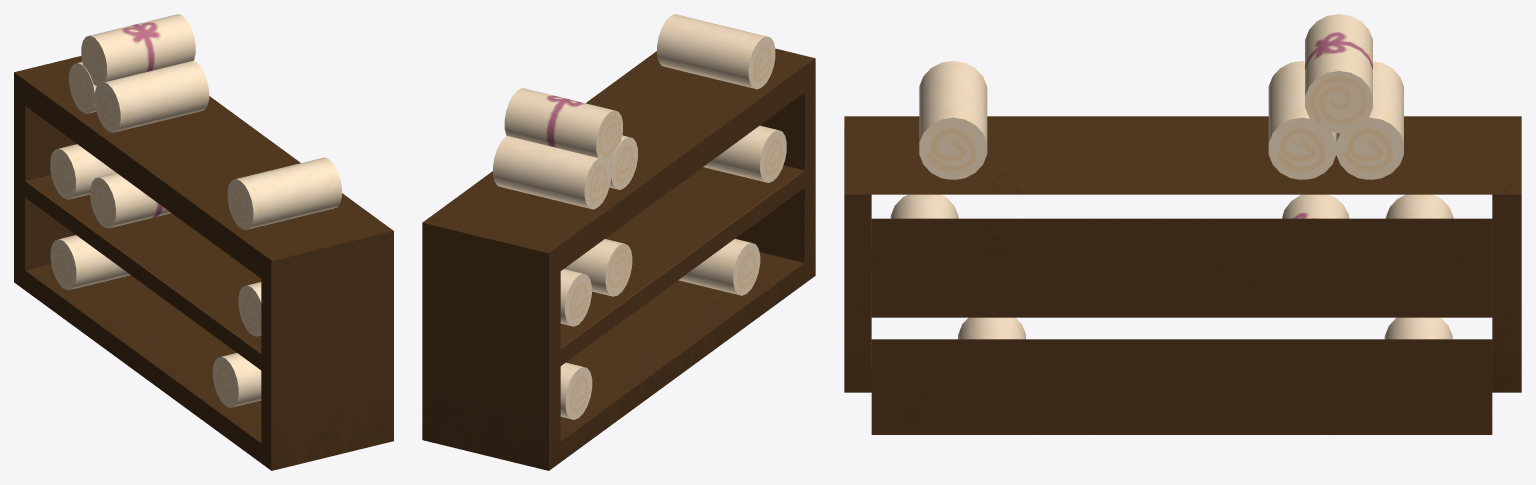
The model's file is Shelf1.fbx.
3 views of the same model, side by side, from view 1: azimuth 30°, elevation 25°; view 2: azimuth 150°, elevation 25°; view 3: azimuth 270°, elevation 25° (orthographic). The views are drawn at different scales.
Parts seen in each view (by area): view 1: Shelf002, RollTowel016, RollTowel008, RollTowel009, RollTowel011, RollTowel013, RollTowel010, RollTowel014, RollTowel017, RollTowel015; view 2: Shelf002, RollTowel016, RollTowel015, RollTowel009, RollTowel017, RollTowel014, RollTowel011, RollTowel013, RollTowel010, RollTowel008; view 3: Shelf002, RollTowel016, RollTowel009, RollTowel008, RollTowel015, RollTowel017, RollTowel014, RollTowel013, RollTowel010, RollTowel011.
Part boxes in pixels (x1,y1,x2,y2): Shelf002: (14,56,393,470); RollTowel016: (227,157,341,229); RollTowel008: (94,61,209,132); RollTowel009: (81,14,195,85); RollTowel011: (90,173,171,228); RollTowel013: (50,235,130,290); RollTowel010: (50,144,116,199); RollTowel014: (212,353,261,407); RollTowel017: (238,282,261,336); RollTowel015: (69,62,96,113); Shelf002: (422,48,815,470); RollTowel016: (657,14,775,89); RollTowel015: (493,136,611,209); RollTowel009: (504,88,622,161); RollTowel017: (703,125,786,182); RollTowel014: (678,239,760,295); RollTowel011: (564,239,632,296); RollTowel013: (560,362,592,419); RollTowel010: (560,269,591,326); RollTowel008: (609,135,637,189); Shelf002: (844,116,1521,434); RollTowel016: (919,61,987,179); RollTowel009: (1305,14,1372,133); RollTowel008: (1268,61,1336,179); RollTowel015: (1336,61,1403,179); RollTowel017: (890,194,958,218); RollTowel014: (958,317,1025,339); RollTowel013: (1384,317,1452,339); RollTowel010: (1385,194,1453,218); RollTowel011: (1282,194,1349,218).
Bounding box in the file's own units: 6.8 × 15.59 × 24.83.
3 materials, 3 textured.
